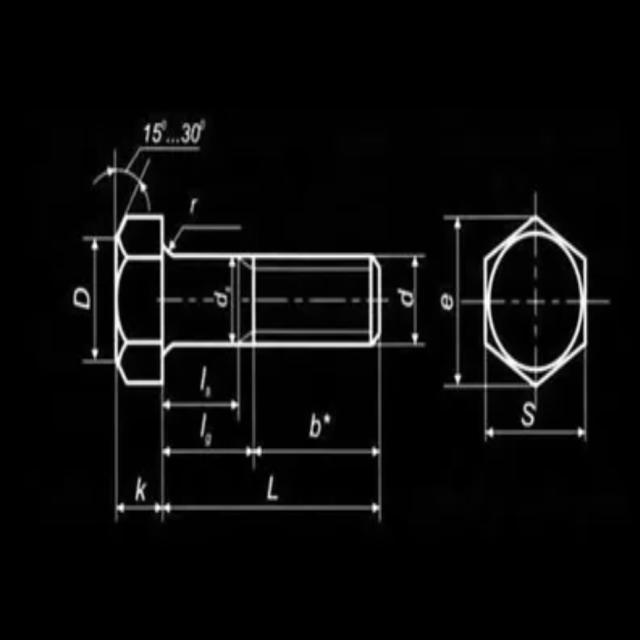marking_line: (93, 144, 205, 214), (162, 502, 383, 522), (168, 221, 262, 252), (451, 216, 466, 394), (254, 441, 377, 458), (486, 427, 594, 446), (163, 443, 253, 465), (90, 237, 103, 359), (113, 500, 162, 516)
numeric: (139, 118, 168, 145), (182, 121, 204, 147)
